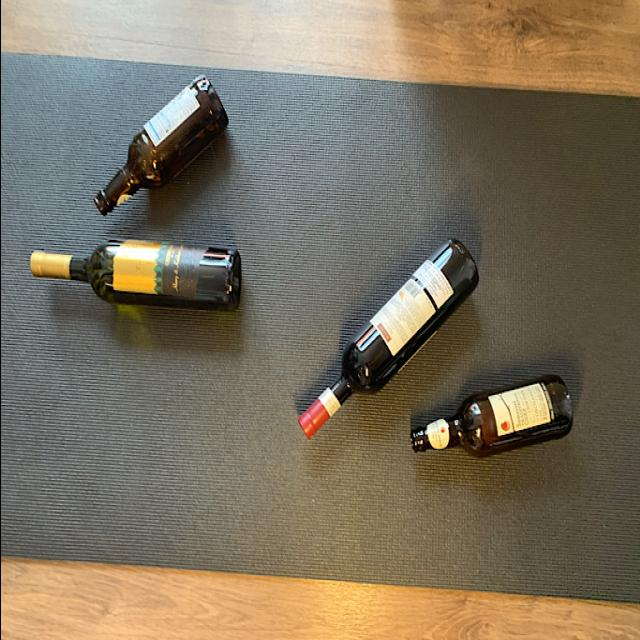Glass Bottle: (294, 230, 480, 442), (88, 74, 230, 220), (29, 238, 242, 314), (409, 375, 572, 459)
